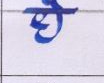ai_matra: (40, 0, 67, 8)
